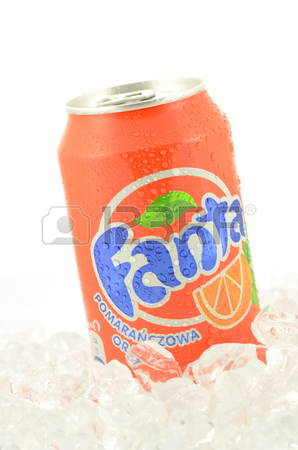fanta: (66, 105, 264, 353)
